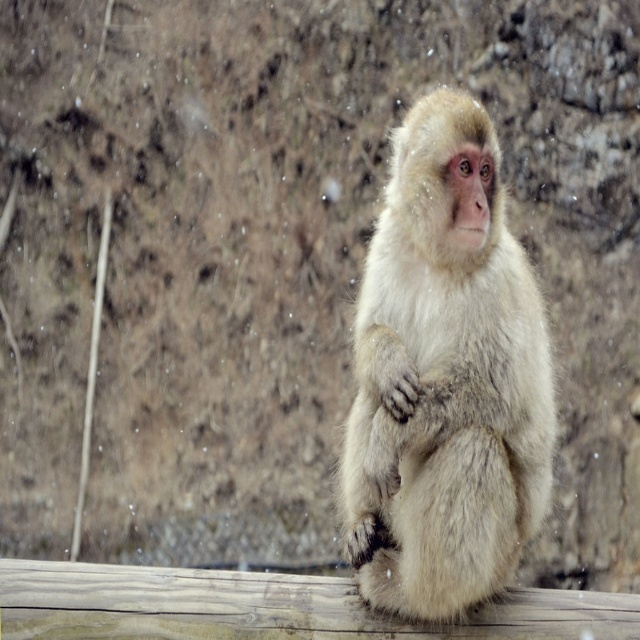Monkey: (337, 84, 560, 626)
